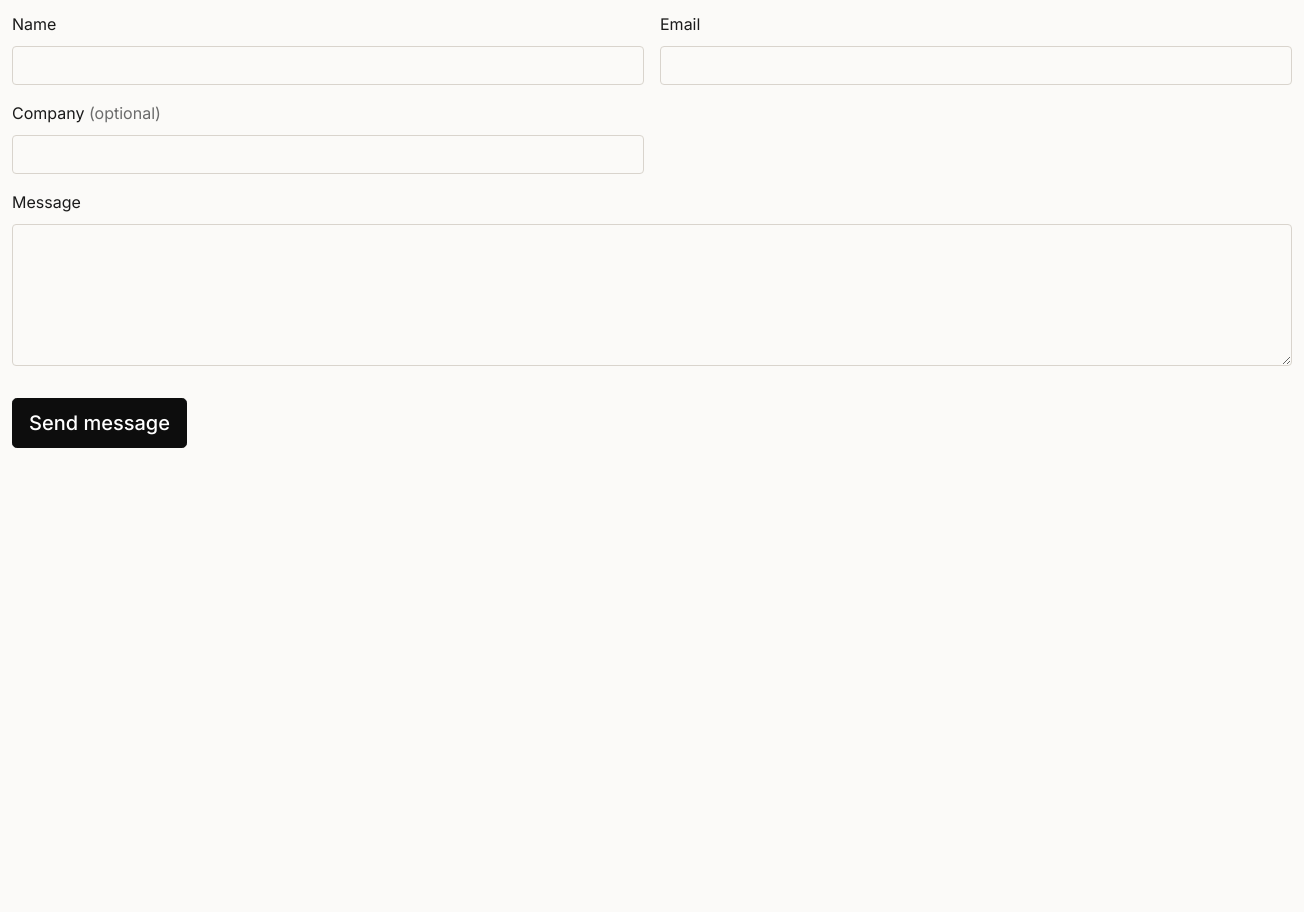
<ContactForm /> › shows an error toast when the API returns a non-OK response
The image size is (1304, 912).
In the field labelled "Name": (328, 65) [12, 46, 644, 85], type "Jane Doe"
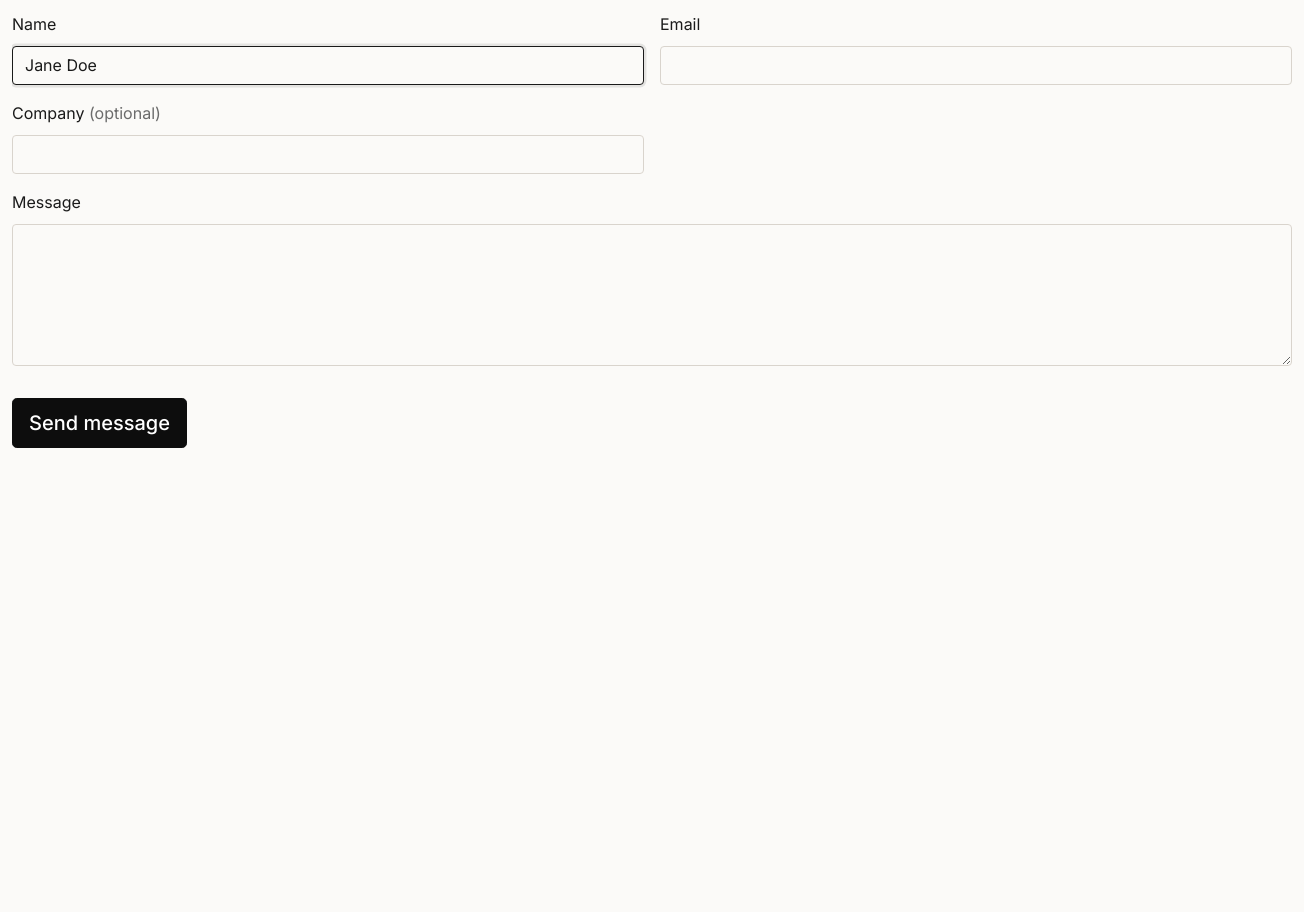
In the field labelled "Email": (976, 65) [660, 46, 1292, 85], type "jane@example.com"
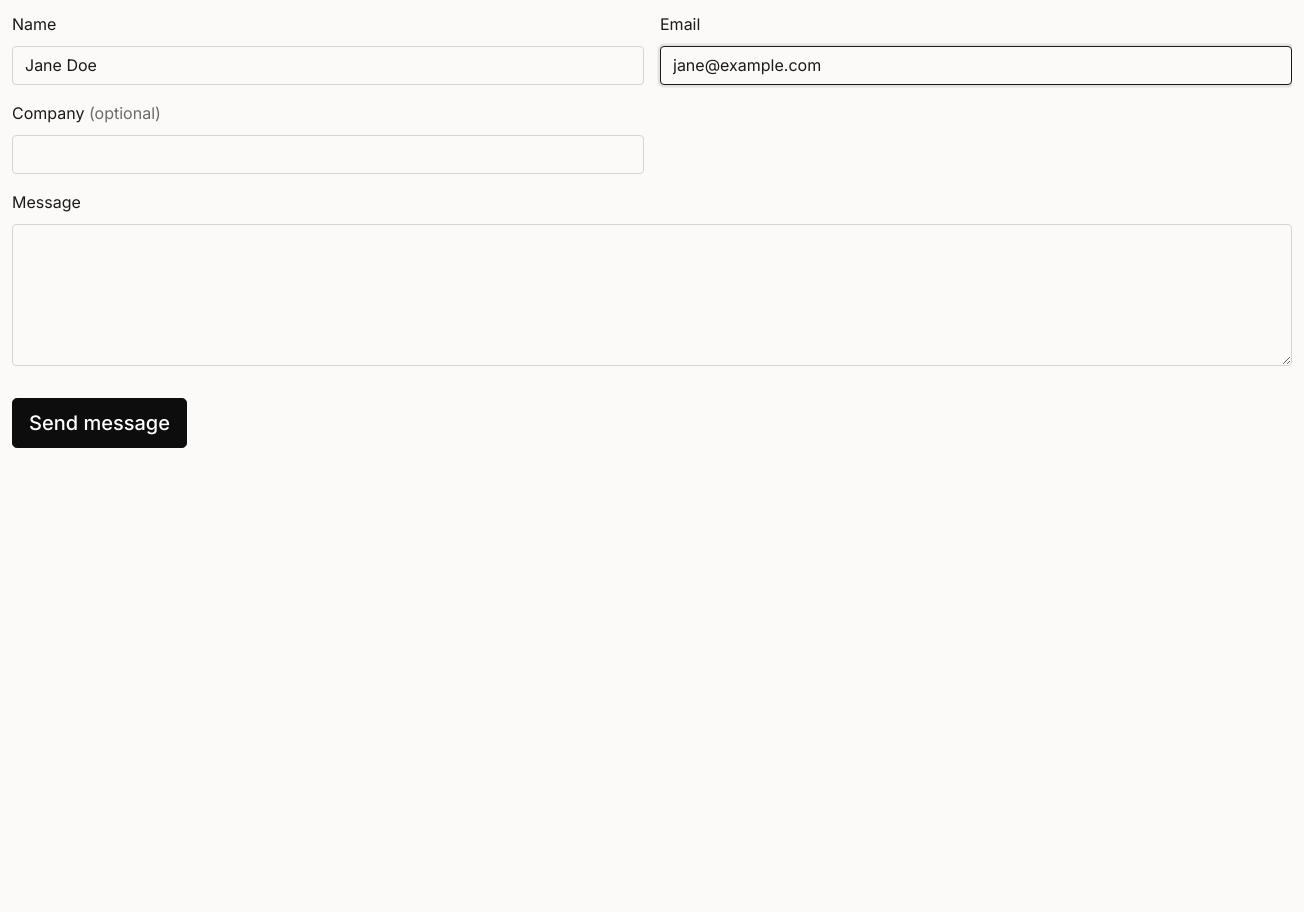
In the text box labelled "Message": (652, 295) [12, 224, 1292, 366], type "Hello there, this is a valid message body."
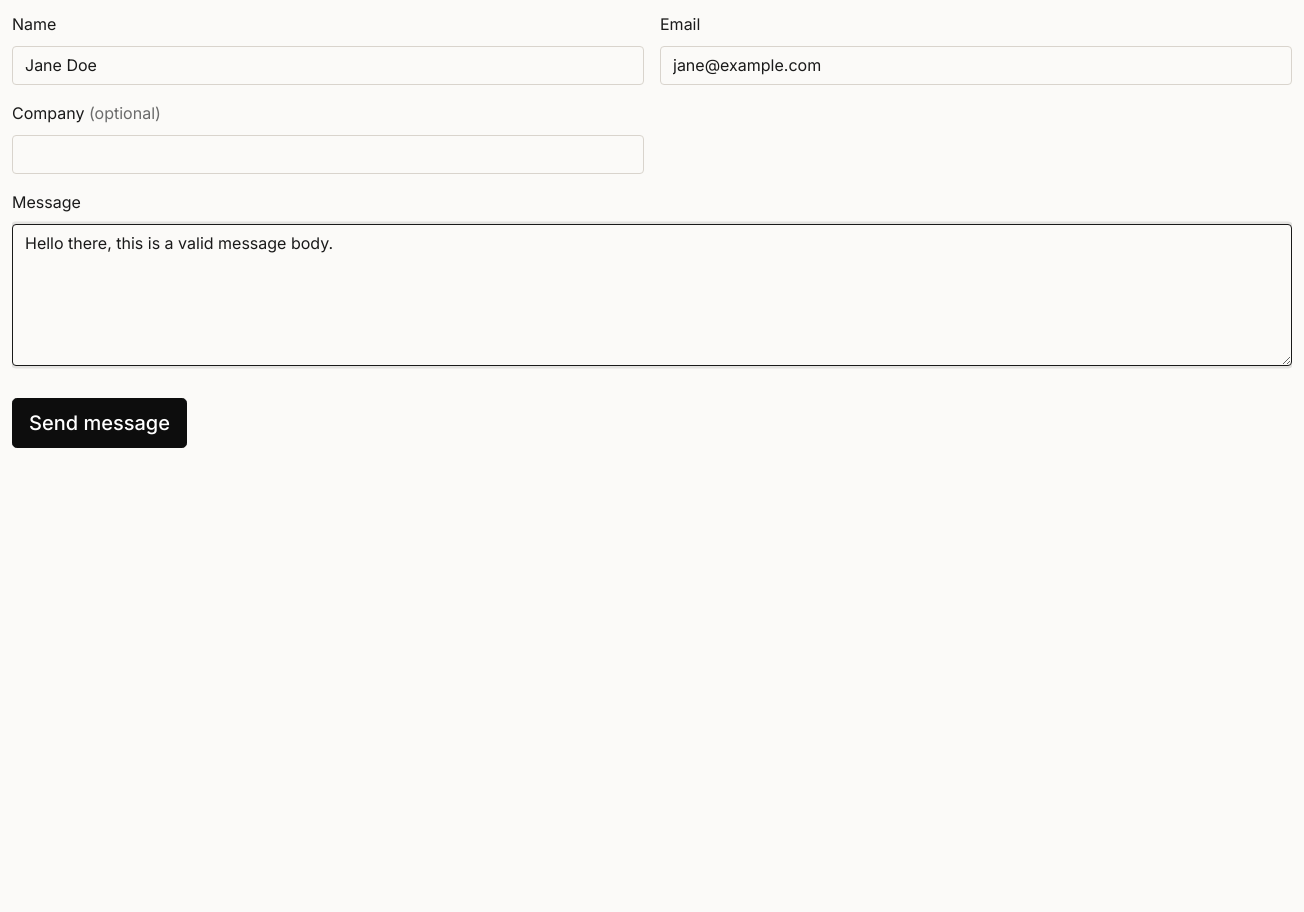
Click the button "Send message": click(100, 423) [12, 398, 187, 448]
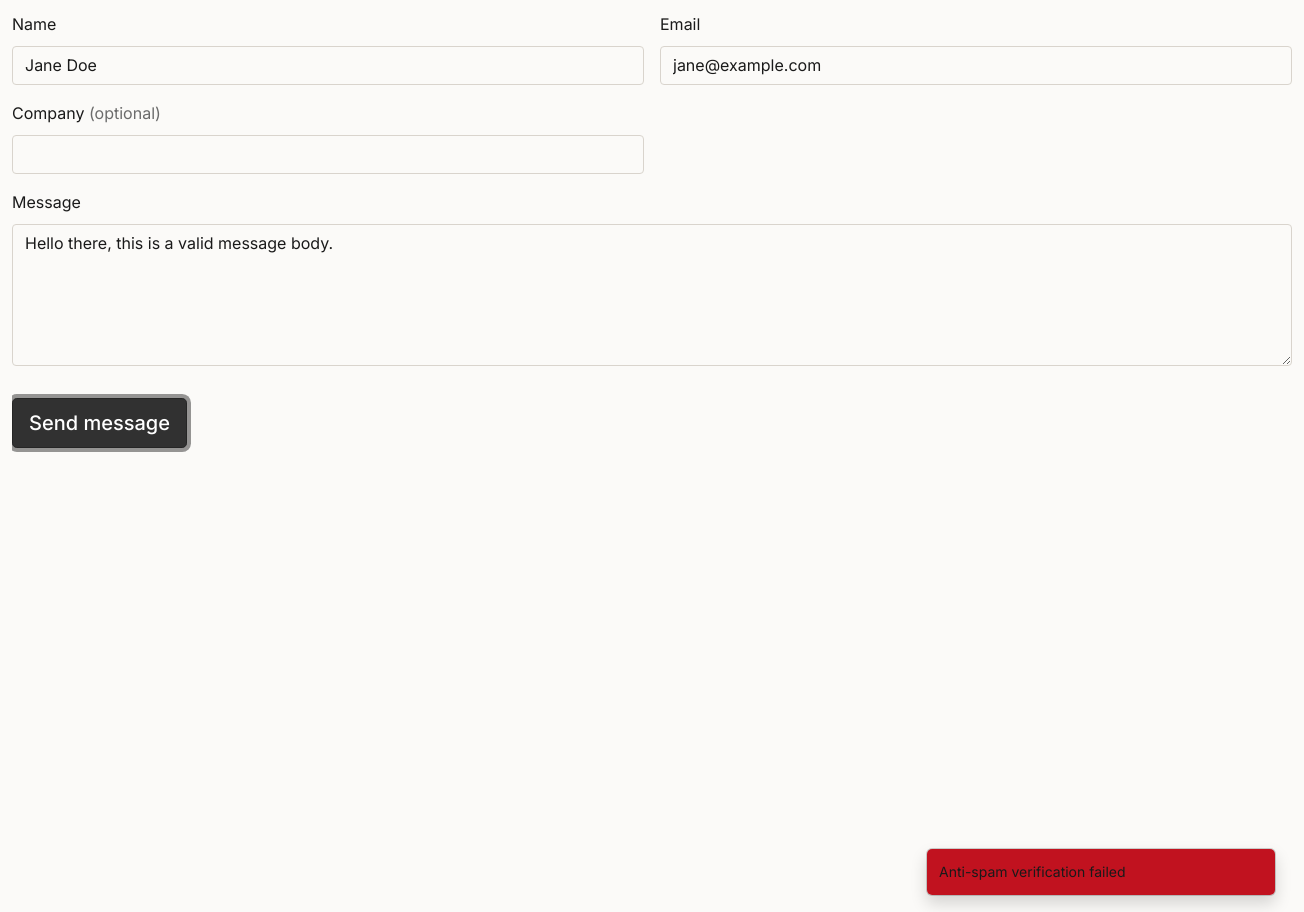
Result: the text "Anti-spam verification failed" is shown at [939, 863, 1126, 880]
